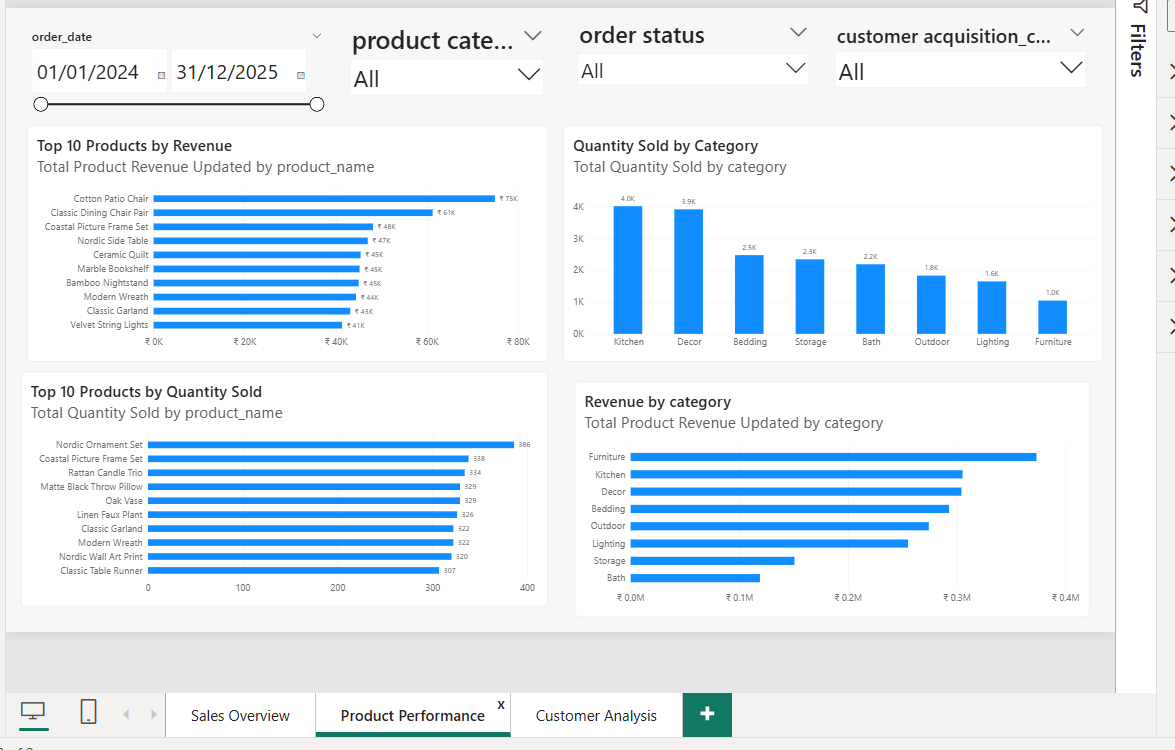

Layout of this report page (visuals, bound fields, positions):
{"tool":"powerbi","page":{"name":"Product Performance","canvas":[1920,1080],"ordinal":1},"visuals":[{"type":"clusteredBarChart","title":"Top 10 Products by Quantity Sold","fields":{"Category":["products.product_name"],"Y":["orders_cleaned.Total Quantity Sold"]},"box":[25.3,629.8,912.1,407.2],"z":0},{"type":"clusteredColumnChart","title":"Quantity Sold by Category","fields":{"Category":["products.category"],"Y":["orders_cleaned.Total Quantity Sold"]},"box":[964.5,202.7,933.8,409],"z":1000},{"type":"clusteredBarChart","title":"Top 10 Products by Revenue","fields":{"Category":["products.product_name"],"Y":["products.Total Product Revenue Updated"]},"box":[36.2,202.7,901.2,409],"z":2000},{"type":"clusteredBarChart","title":" Revenue by category","fields":{"Category":["products.category"],"Y":["products.Total Product Revenue Updated"]},"box":[984.5,647.9,892.2,407.2],"z":3000},{"type":"slicer","fields":{"Values":["orders_cleaned.order_date"]},"box":[36.2,34.4,517.6,153.8],"z":4000},{"type":"slicer","fields":{"Values":["products.category"]},"box":[591.8,23.5,345.6,141.2],"z":5000},{"type":"slicer","fields":{"Values":["orders_cleaned.status"]},"box":[984.5,16.3,410.8,148.4],"z":6000},{"type":"slicer","fields":{"Values":["customers.acquisition_channel"]},"box":[1431.4,23.5,445.2,164.7],"z":7000}]}

Visuals, with their boxes on the page's 1920x1080 design canvas (x1, y1, x2, y2). These are canvas units, not pixel positions in the 1175x750 screenshot, which may show the page scaled, cropped or inside an application window:
"Top 10 Products by Quantity Sold" clusteredBarChart: x1=25 y1=630 x2=937 y2=1037
"Quantity Sold by Category" clusteredColumnChart: x1=964 y1=203 x2=1898 y2=612
"Top 10 Products by Revenue" clusteredBarChart: x1=36 y1=203 x2=937 y2=612
" Revenue by category" clusteredBarChart: x1=984 y1=648 x2=1877 y2=1055
slicer - orders_cleaned.order_date: x1=36 y1=34 x2=554 y2=188
slicer - products.category: x1=592 y1=24 x2=937 y2=165
slicer - orders_cleaned.status: x1=984 y1=16 x2=1395 y2=165
slicer - customers.acquisition_channel: x1=1431 y1=24 x2=1877 y2=188
